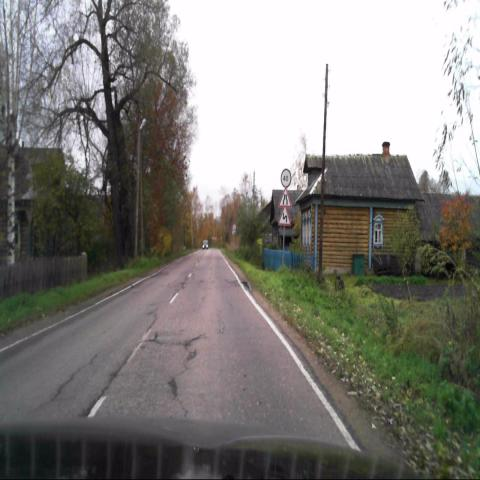1_12_2: (278, 206, 291, 225)
1_20: (278, 188, 292, 207)
